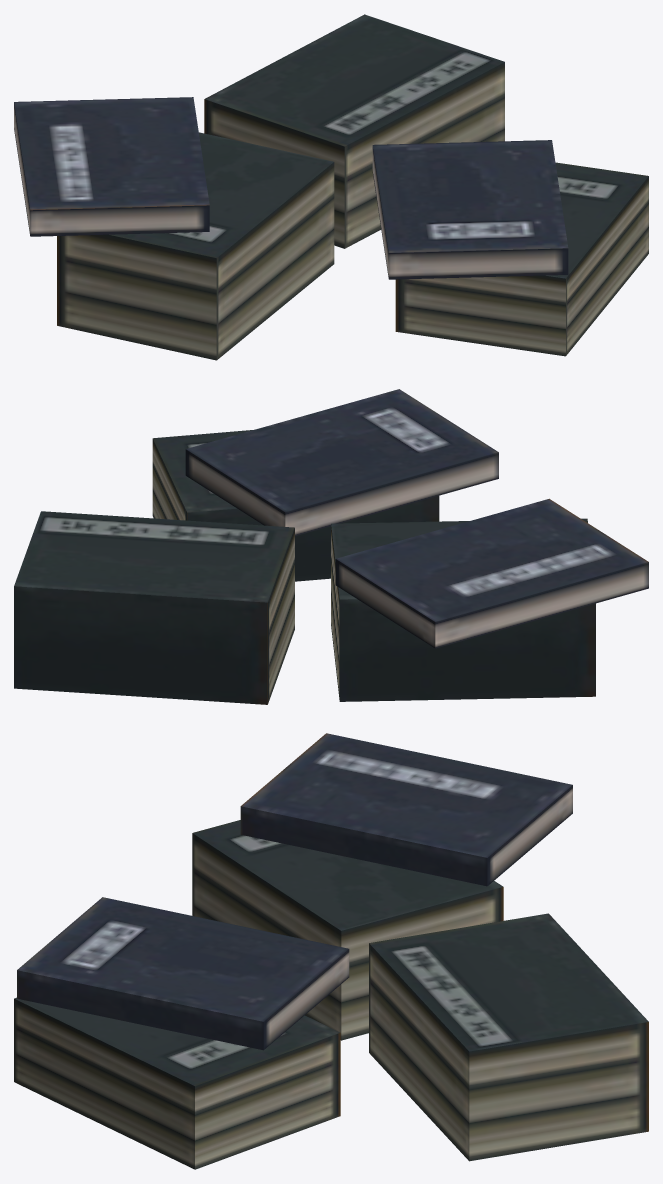
The model's file is fb_cangjingge_shu01.FBX.
3 views of the same model, one above another, from view 1: azimuth 30°, elevation 25°; view 2: azimuth 150°, elevation 25°; view 3: azimuth 270°, elevation 25° (orthographic). The views are drawn at different scales.
Visible parts, largest first — view 1: fb_cangjingge_shu01; view 2: fb_cangjingge_shu01; view 3: fb_cangjingge_shu01.
Part boxes in pixels (x1,y1,x2,y2): fb_cangjingge_shu01: (14, 14, 648, 360); fb_cangjingge_shu01: (14, 389, 648, 704); fb_cangjingge_shu01: (14, 733, 648, 1169).
Size of the model in its own units: 131 by 30.32 by 121.
